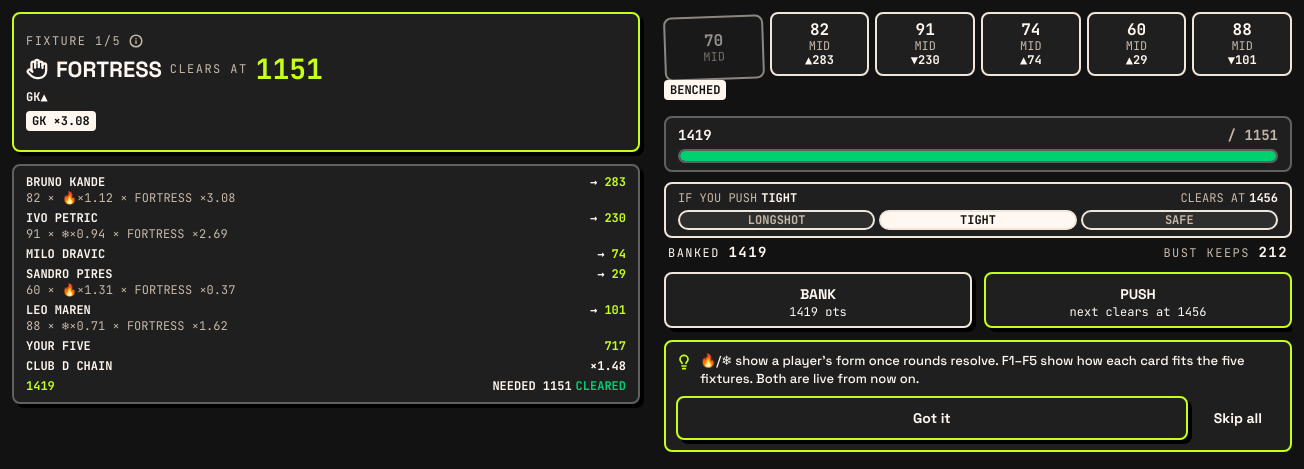
Test: Ticket D2 — first-run de-noising › SKIP ALL on the intro mark itself un-hides and writes the sentinel
Click the button with test id "draw-coach-introduced-skip" at (1238,418), box [1196, 396, 1280, 440]
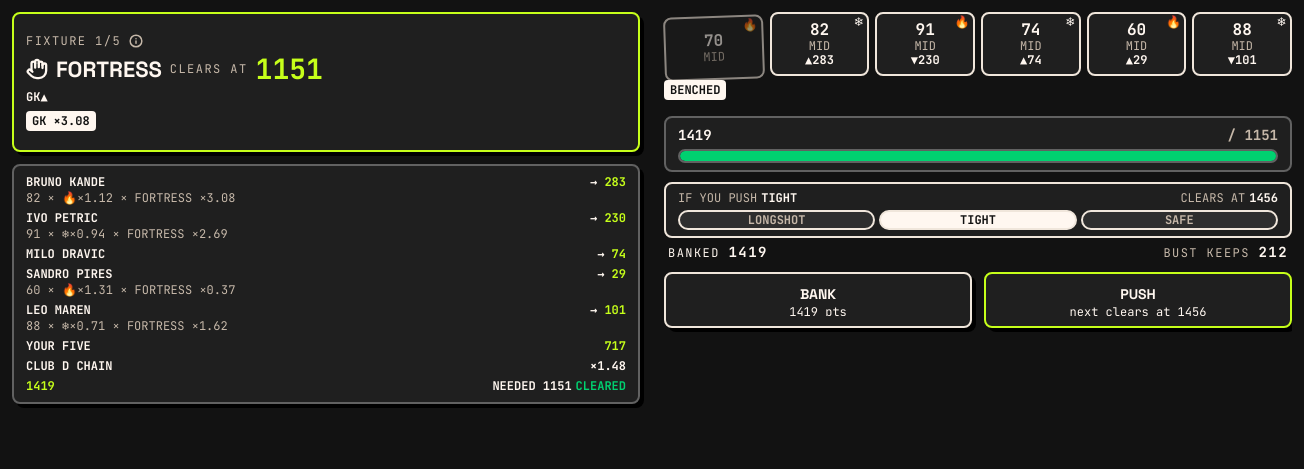
expect the message with test id "draw-coach-introduced" is gone: met
expect the text with test id "draw-hint-chip-1" is shown: met, box [854, 16, 865, 28]
